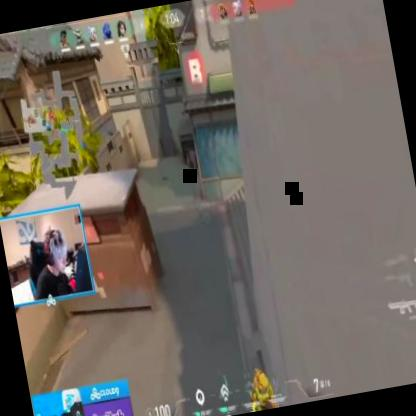enemy: (244, 367, 278, 412)
enemy_head: (256, 369, 270, 392)
